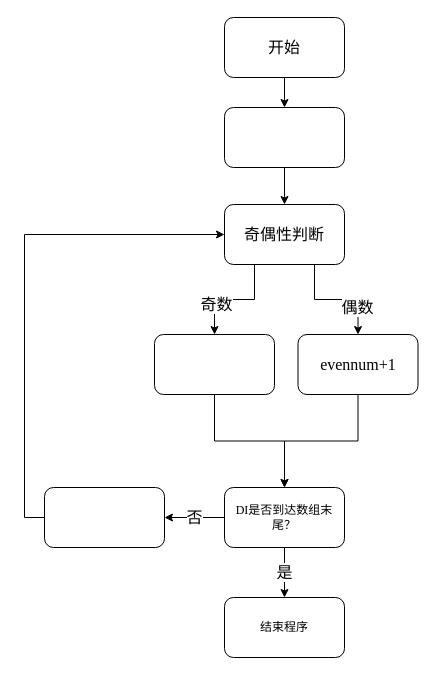
Some shapes in this 436 by 675 pixel diagram are drawn without their labels. The centre of each missing label's shape, as x and y in pixels:
"DI+1" belongs at point 104,517.
"oddnum+1" belongs at point 214,364.
"设置循环次数" belongs at point 284,137.
